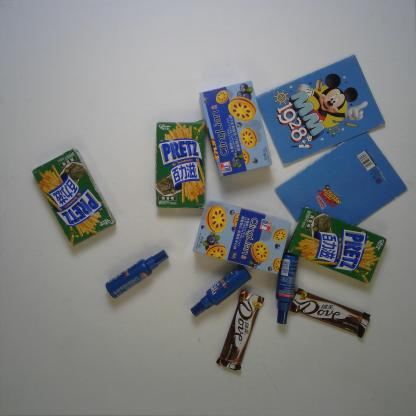Chocolate: (286, 285, 374, 340), (221, 289, 265, 373)
Dessert: (29, 146, 119, 250), (282, 203, 391, 285), (189, 196, 295, 278), (198, 75, 272, 176), (150, 118, 206, 212)
Personal Hygiene: (188, 262, 254, 319), (104, 248, 170, 298), (272, 251, 302, 328)
Stationery: (272, 125, 411, 258), (248, 53, 390, 168)
